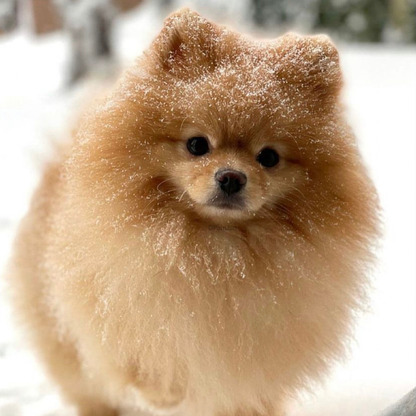Pomeranian: (69, 14, 376, 402)
